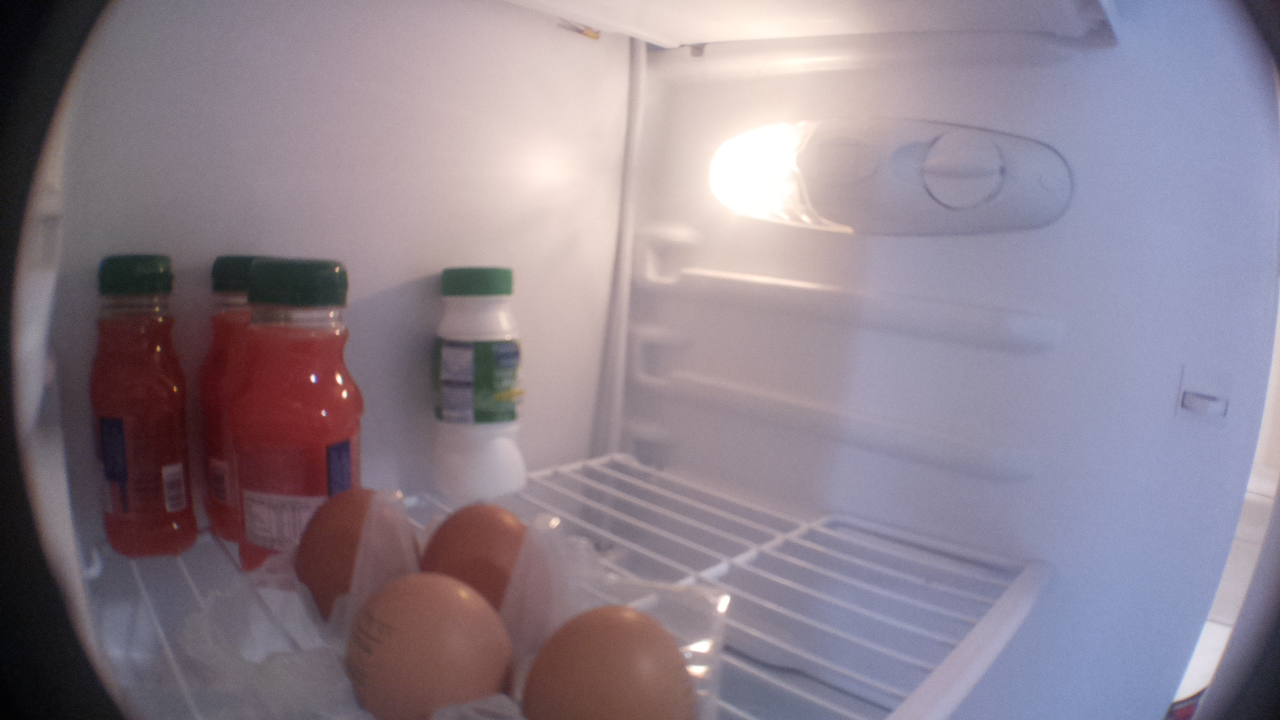egg: (341, 574, 525, 720), (521, 597, 708, 720), (299, 487, 435, 623), (420, 495, 550, 625)
juice: (79, 250, 208, 557), (242, 252, 364, 572), (201, 245, 249, 551)
laban: (424, 258, 526, 515)
